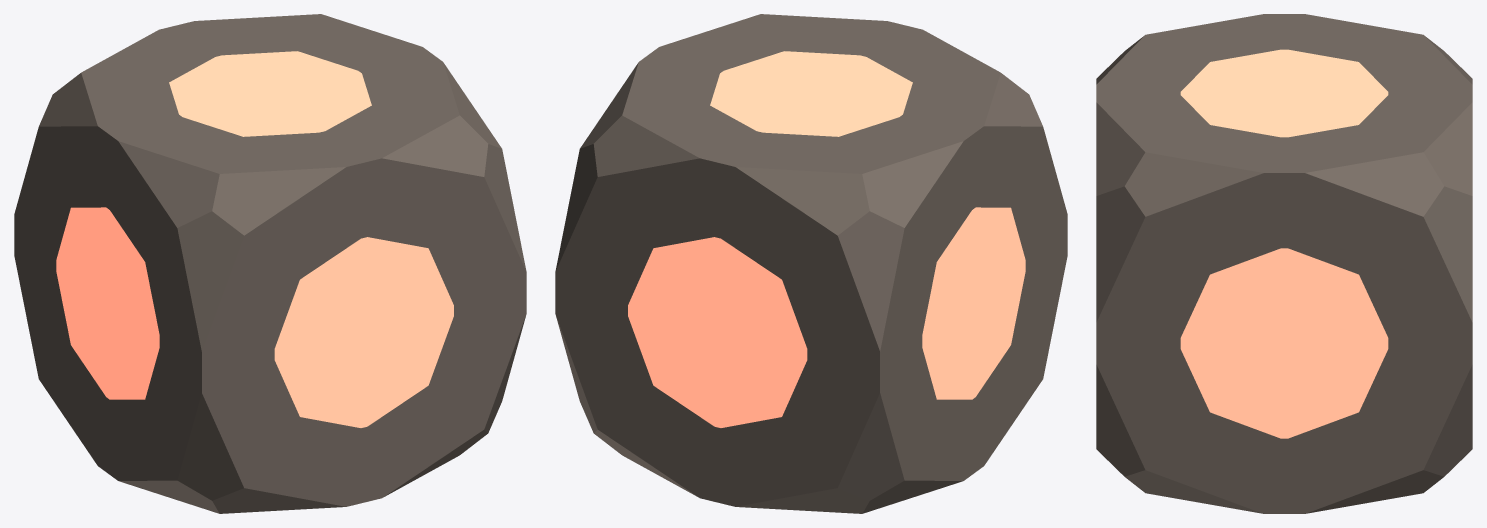
File: play_btn_red.gltf
3 renders of one model, left to right at view 1: azimuth 30°, elevation 25°; view 2: azimuth 150°, elevation 25°; view 3: azimuth 270°, elevation 25°, orthographic.
Parts seen in each view (by area): view 1: Plane.044; view 2: Plane.044; view 3: Plane.044.
Boxes of the visible parts, <box> form: Plane.044: <box>14,14,526,513</box>; Plane.044: <box>555,14,1067,513</box>; Plane.044: <box>1096,14,1472,513</box>.
Bounding box in the file's own units: 1.5 × 1.5 × 1.5.
